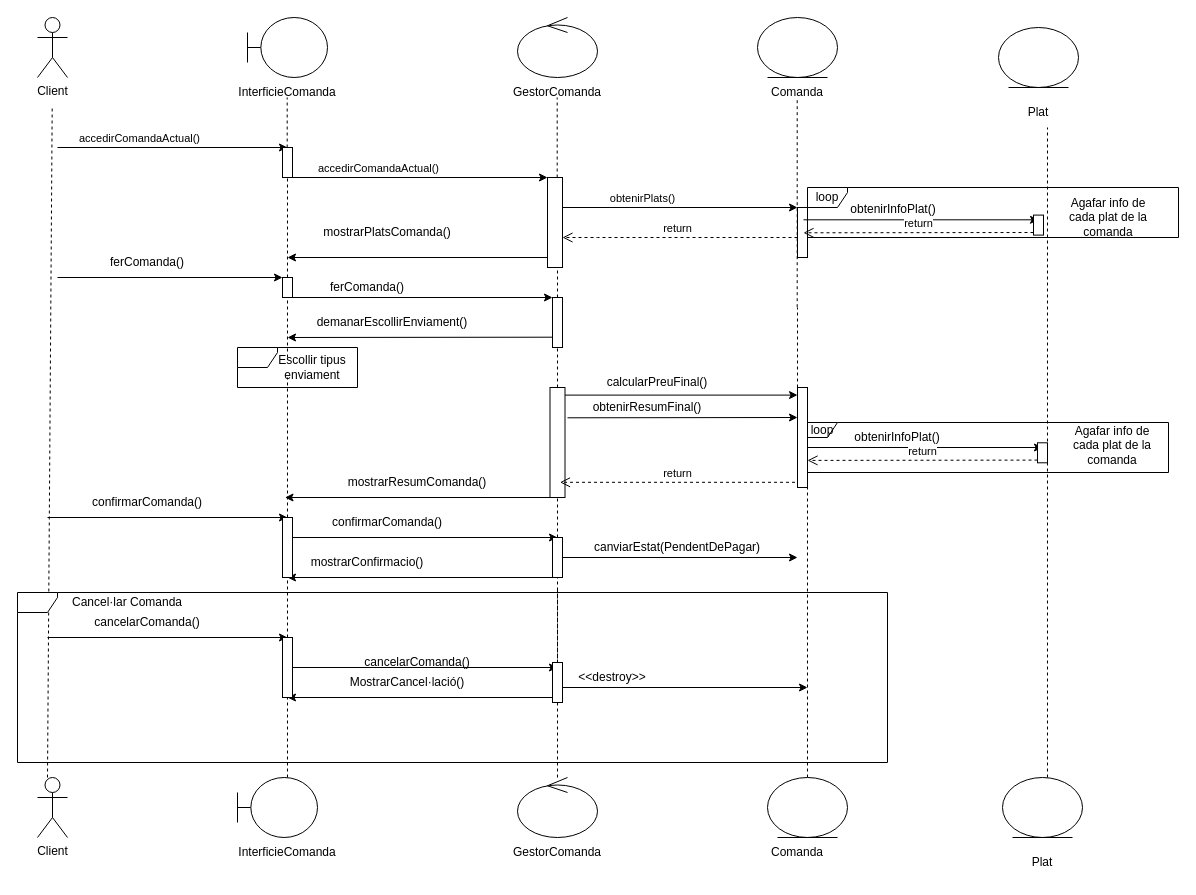
This 1196x895 diagram has some shape labels left out. The box of each missing label's shape, as (x1, y1, x2, y2) in pixels:
alt: (16, 592, 888, 762)
ref: (236, 346, 358, 388)
